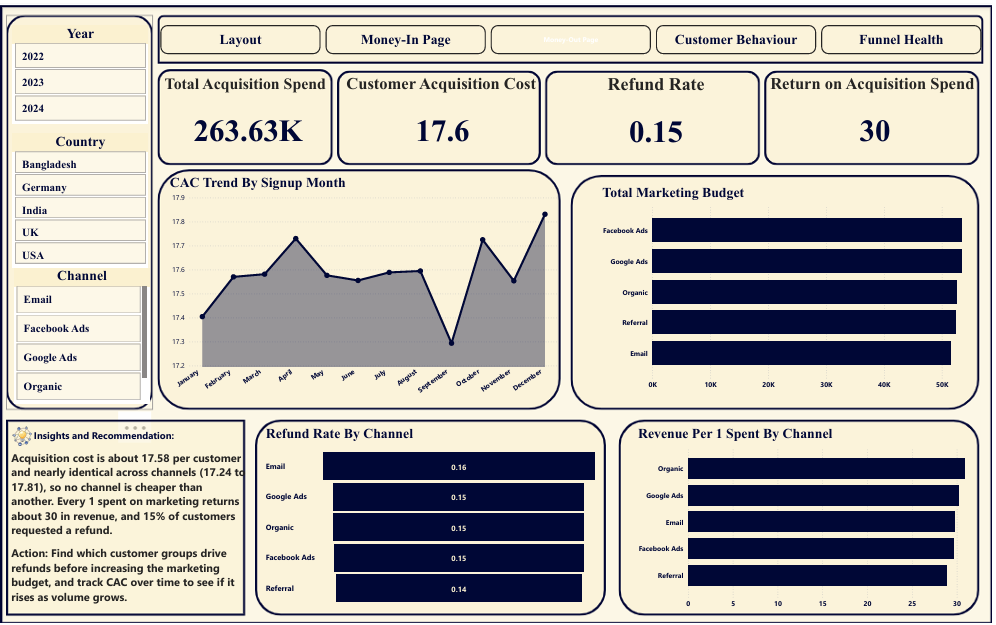

What the dashboard file says about the page in this screenshot:
{"tool":"powerbi","page":{"name":"Money-Out Page","canvas":[1920,1200],"ordinal":2},"visuals":[{"type":"pageNavigator","box":[310.2,42.4,1590.6,55.7],"z":0},{"type":"advancedSlicerVisual","title":"Year","fields":{"Values":["sales_marketing_clean.signup_month.Variation.Date Hierarchy.Year"]},"box":[23.9,42.4,262.5,190.9],"z":1000},{"type":"advancedSlicerVisual","title":"Country","fields":{"Values":["sales_marketing_clean.country"]},"box":[23.9,251.8,262.5,259.8],"z":2000},{"type":"advancedSlicerVisual","title":"Channel","fields":{"Values":["sales_marketing_clean.acquisition_channel"]},"box":[26.5,511.6,262.5,262.5],"z":3000},{"type":"card","title":"Total Acquisition Spend","fields":{"Values":["sales_marketing_clean.Total Marketing Spend"]},"box":[312.8,137.9,334,172.3],"z":4000},{"type":"card","title":"Customer Acquisition Cost","fields":{"Values":["sales_marketing_clean.CAC"]},"box":[665.3,136.7,382.8,173.2],"z":5000},{"type":"card","title":"Refund Rate","fields":{"Values":["sales_marketing_clean.Refund Rate"]},"box":[1105.8,136.7,328.1,173.2],"z":6000},{"type":"card","title":"Return on Acquisition Spend","fields":{"Values":["sales_marketing_clean.Revenue per 1 Spent"]},"box":[1485.6,136.7,416.2,173.2],"z":7000},{"type":"barChart","title":"Total Marketing Budget","fields":{"Category":["sales_marketing_clean.acquisition_channel"],"Y":["sales_marketing_clean.Total Marketing Spend"]},"box":[1161.1,349.9,718.4,405.6],"z":8000},{"type":"areaChart","title":"CAC Trend By Signup Month","fields":{"Y":["sales_marketing_clean.CAC"],"Category":["sales_marketing_clean.signup_month.Variation.Date Hierarchy.Month"]},"box":[323.4,331.4,760.8,442.7],"z":9000},{"type":"clusteredBarChart","title":"Revenue Per 1 Spent By Channel","fields":{"Category":["sales_marketing_clean.acquisition_channel"],"Y":["sales_marketing_clean.Revenue per 1 Spent"]},"box":[1230.1,816.5,649.5,363.2],"z":10000},{"type":"funnel","title":"Refund Rate By Channel","fields":{"Y":["sales_marketing_clean.Refund Rate"],"Category":["sales_marketing_clean.acquisition_channel"]},"box":[509,816.5,652.2,363.2],"z":11000},{"type":"textbox","box":[15.9,816.5,463.9,363.2],"z":12000},{"type":"image","box":[13.3,813.9,58.3,47.7],"z":13000}]}

Visuals, with their boxes in screenshot pixels (x1, y1, x2, y2), scaled from the page's 1920x1200 canvas onto the 996x625 screenshot:
pageNavigator: <box>161,22,986,51</box>
"Year" advancedSlicerVisual: <box>12,22,149,122</box>
"Country" advancedSlicerVisual: <box>12,131,149,266</box>
"Channel" advancedSlicerVisual: <box>14,266,150,403</box>
"Total Acquisition Spend" card: <box>162,72,336,162</box>
"Customer Acquisition Cost" card: <box>345,71,544,161</box>
"Refund Rate" card: <box>574,71,744,161</box>
"Return on Acquisition Spend" card: <box>771,71,987,161</box>
"Total Marketing Budget" barChart: <box>602,182,975,393</box>
"CAC Trend By Signup Month" areaChart: <box>168,173,562,403</box>
"Revenue Per 1 Spent By Channel" clusteredBarChart: <box>638,425,975,614</box>
"Refund Rate By Channel" funnel: <box>264,425,602,614</box>
textbox: <box>8,425,249,614</box>
image: <box>7,424,37,449</box>
